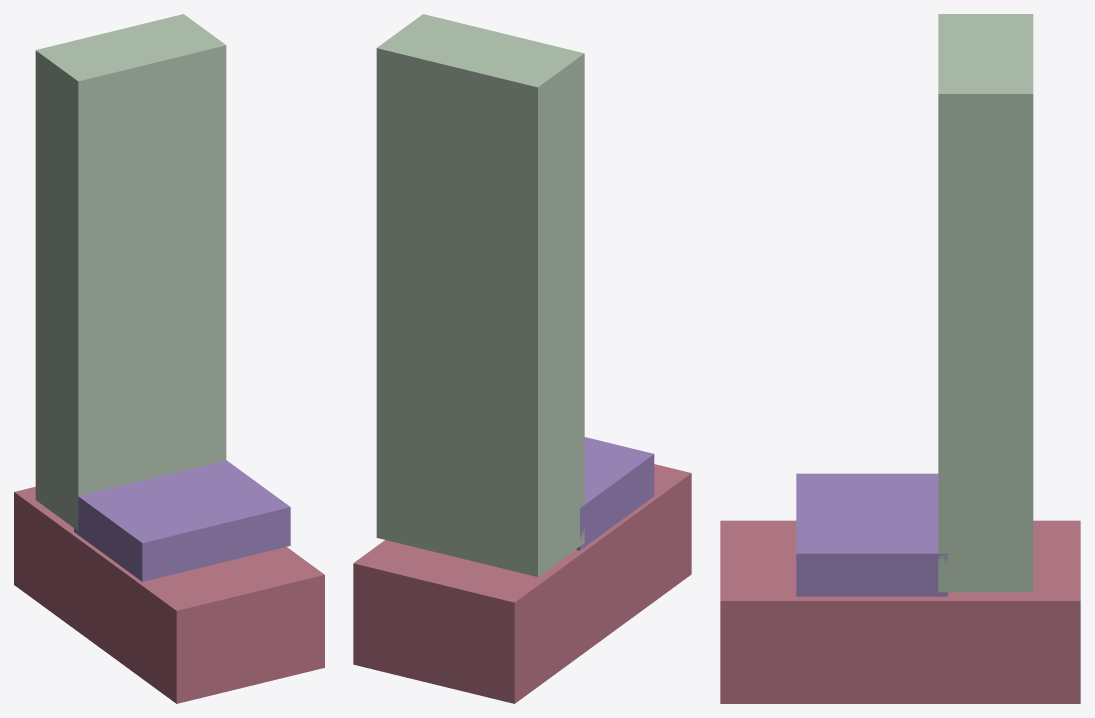
3 views of the same model, side by side, from view 1: azimuth 30°, elevation 25°; view 2: azimuth 150°, elevation 25°; view 3: azimuth 270°, elevation 25° (orthographic). The views are drawn at different scales.
Visible parts, largest first — view 1: world; view 2: world; view 3: world.
Part boxes in pixels (left/top/right/bottom): world: left=14, top=14, right=324, bottom=703; world: left=353, top=14, right=691, bottom=703; world: left=720, top=14, right=1080, bottom=703.
Size of the model in its own units: 2 by 7.1 by 3.8.
